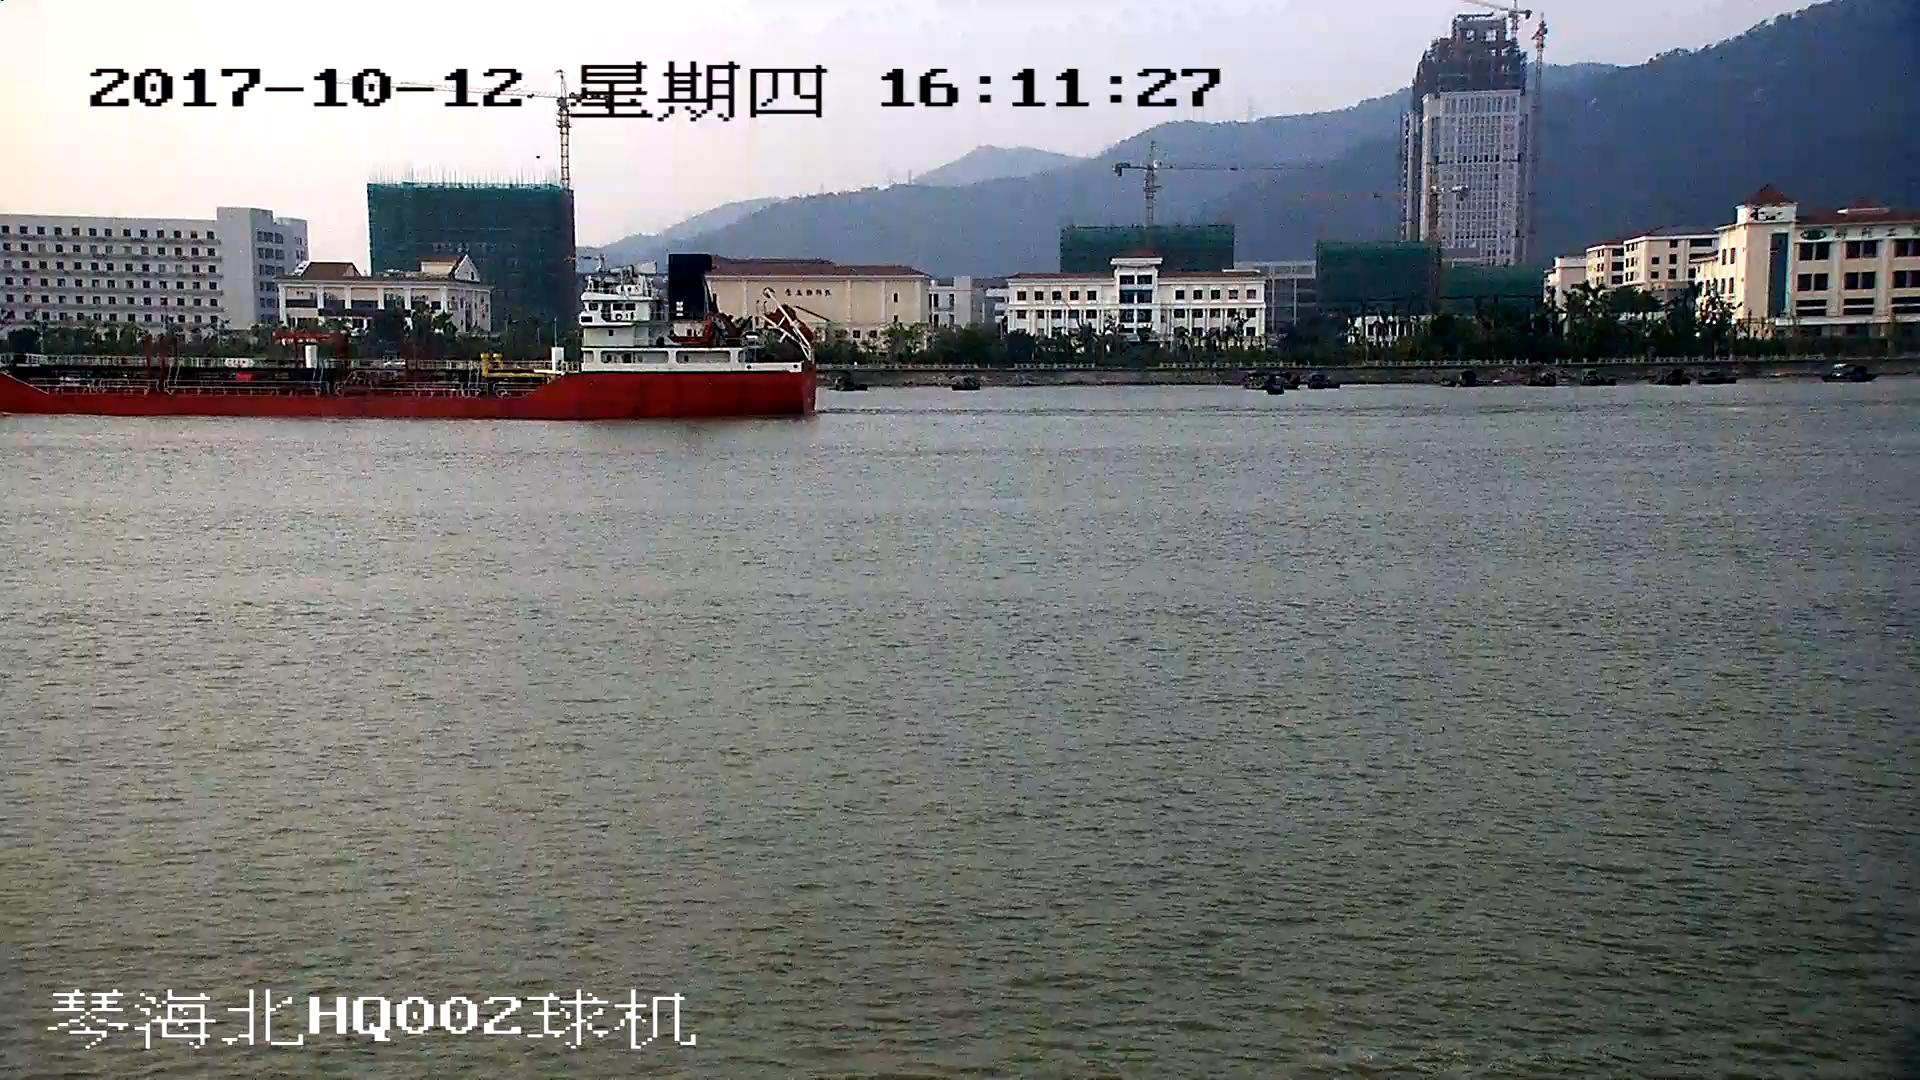general cargo ship: (1, 257, 820, 414)
